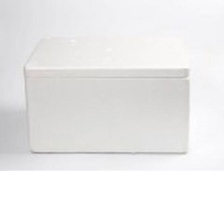foam_box: (16, 25, 198, 159)
